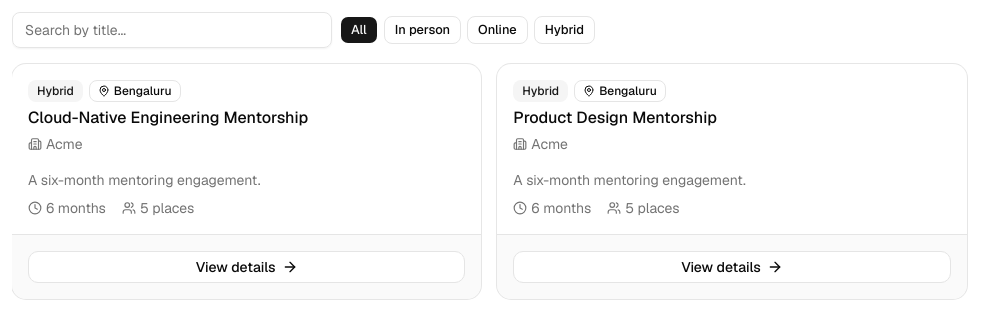
MentorshipListView › filters the rendered list by title search
The width and height of the screenshot is (985, 317).
expect the text "Cloud-Native Engineering Mentorship" is shown: met, box [28,107,308,128]
Type "design" into the search field named "Search mentorship opportunities" at (172, 30), box [12,12,332,48]
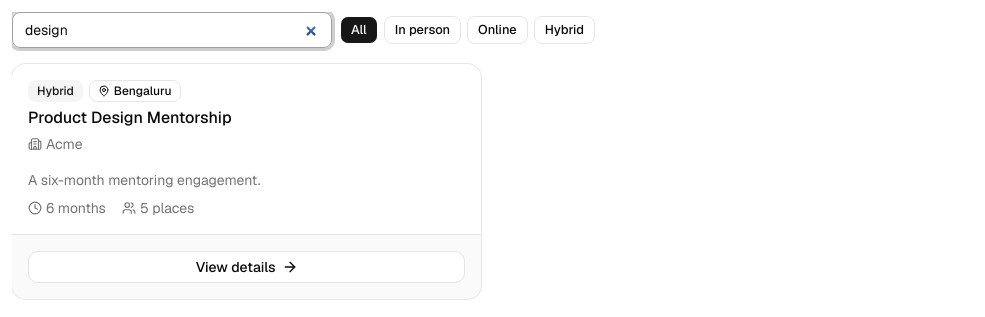
expect the text "Product Design Mentorship" is shown: met, box [28,107,232,128]
expect the text "Cloud-Native Engineering Mentorship" is gone: met
